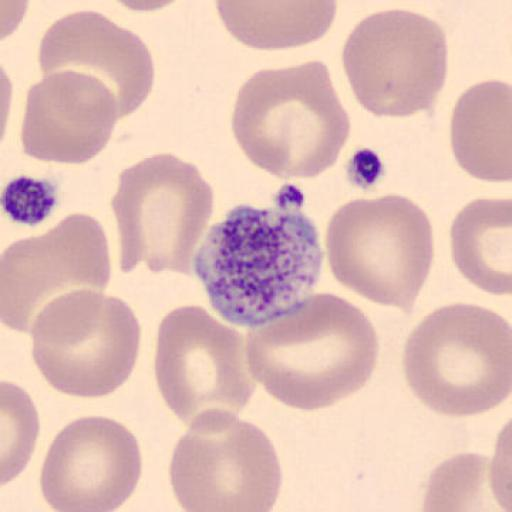Platelet: (1, 170, 62, 228)
RBC: (243, 289, 380, 412), (230, 58, 352, 182), (0, 211, 112, 334), (152, 302, 258, 429), (400, 300, 512, 419), (38, 8, 156, 120), (112, 150, 216, 277), (325, 192, 436, 310), (28, 289, 142, 399), (341, 6, 450, 120), (167, 407, 283, 512), (38, 412, 143, 512), (19, 68, 119, 166), (449, 77, 512, 184), (449, 195, 512, 297), (214, 0, 338, 51), (420, 450, 512, 512), (0, 378, 40, 488), (489, 414, 512, 512), (0, 48, 16, 158), (0, 0, 31, 42), (0, 59, 14, 151), (0, 55, 11, 168), (104, 1, 190, 13)
